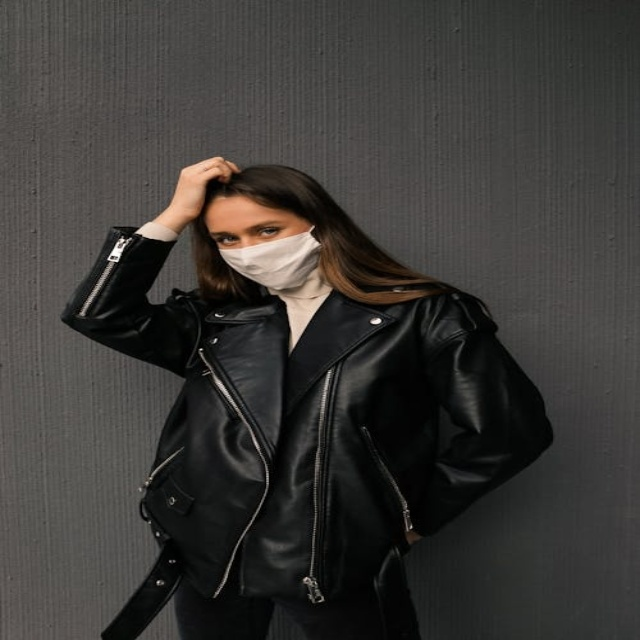Mascara: (215, 224, 327, 290)
Sin_gafas: (207, 219, 289, 246)
Sin_guantes: (165, 149, 244, 214)
